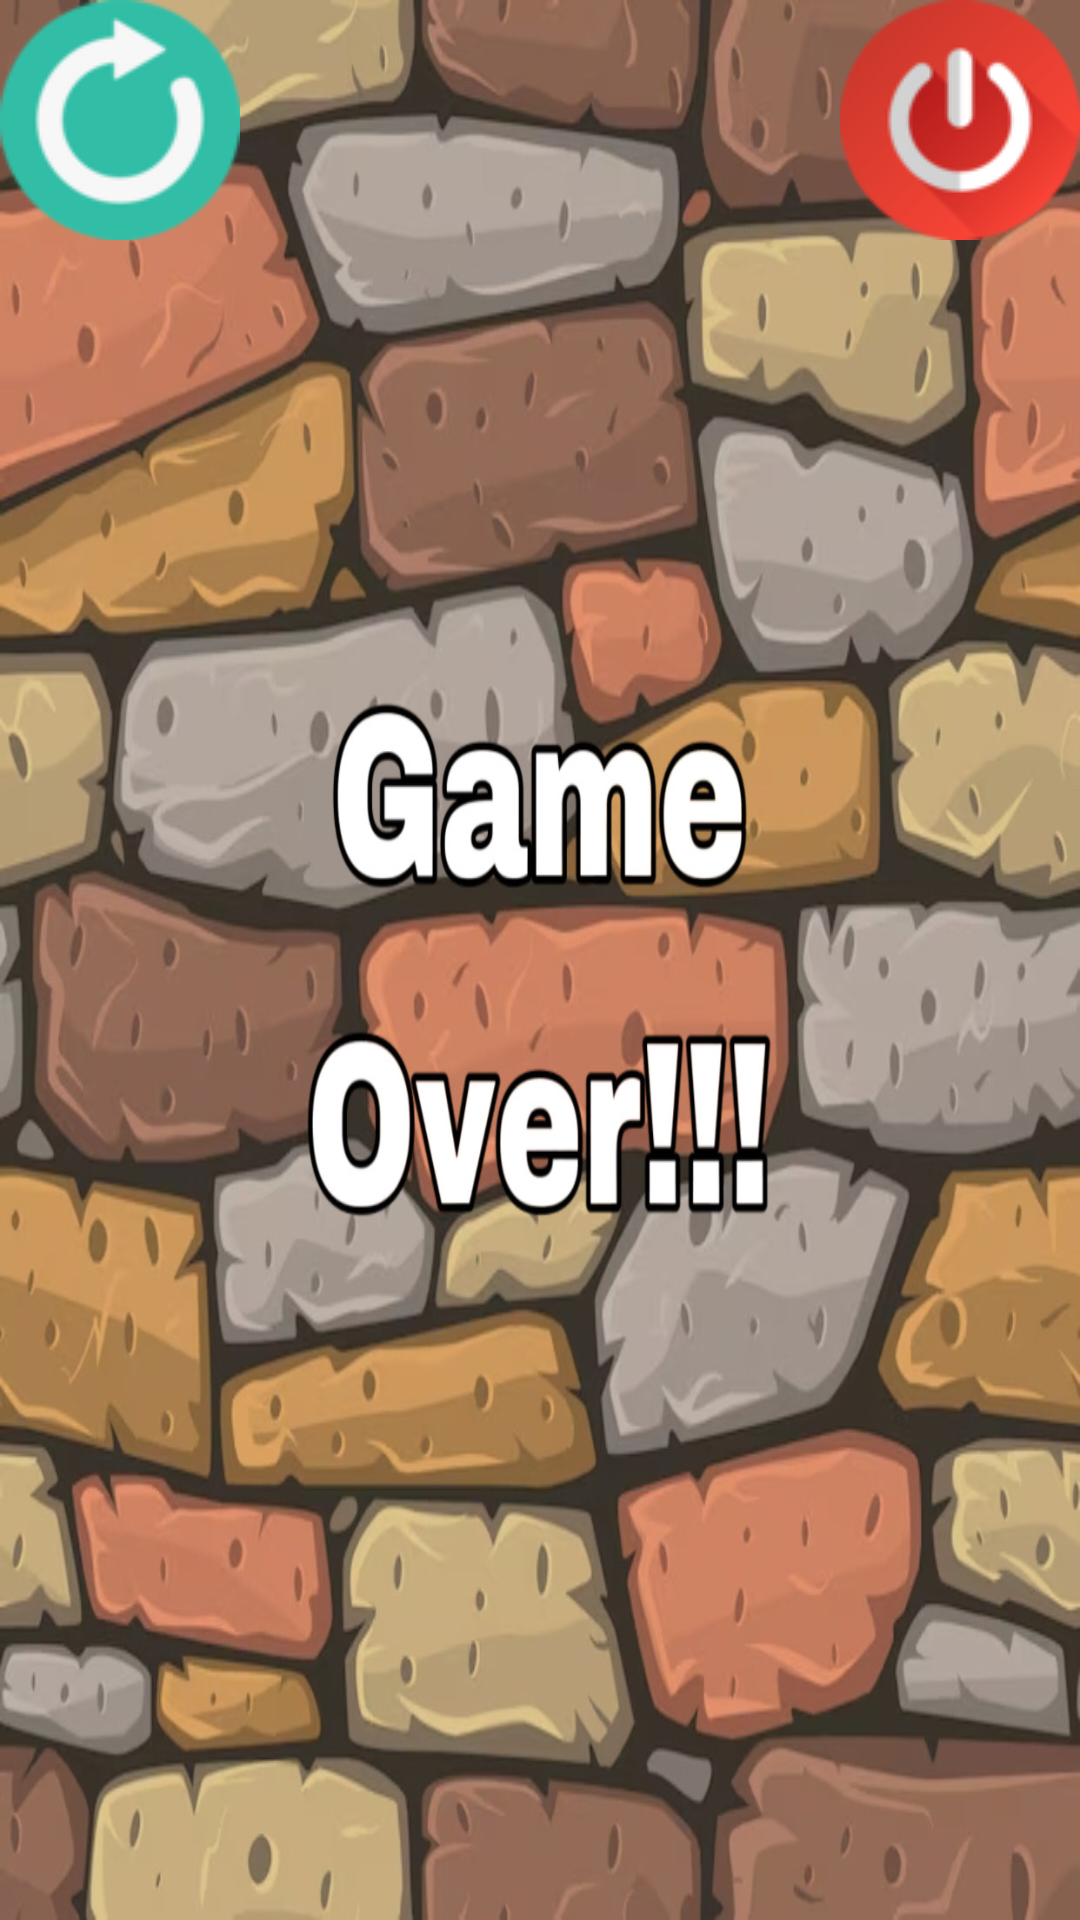

Screen size 1080x1920. Icon name, then its center in pixels as (x,y):
exit: (960,120)
restart: (120,120)
